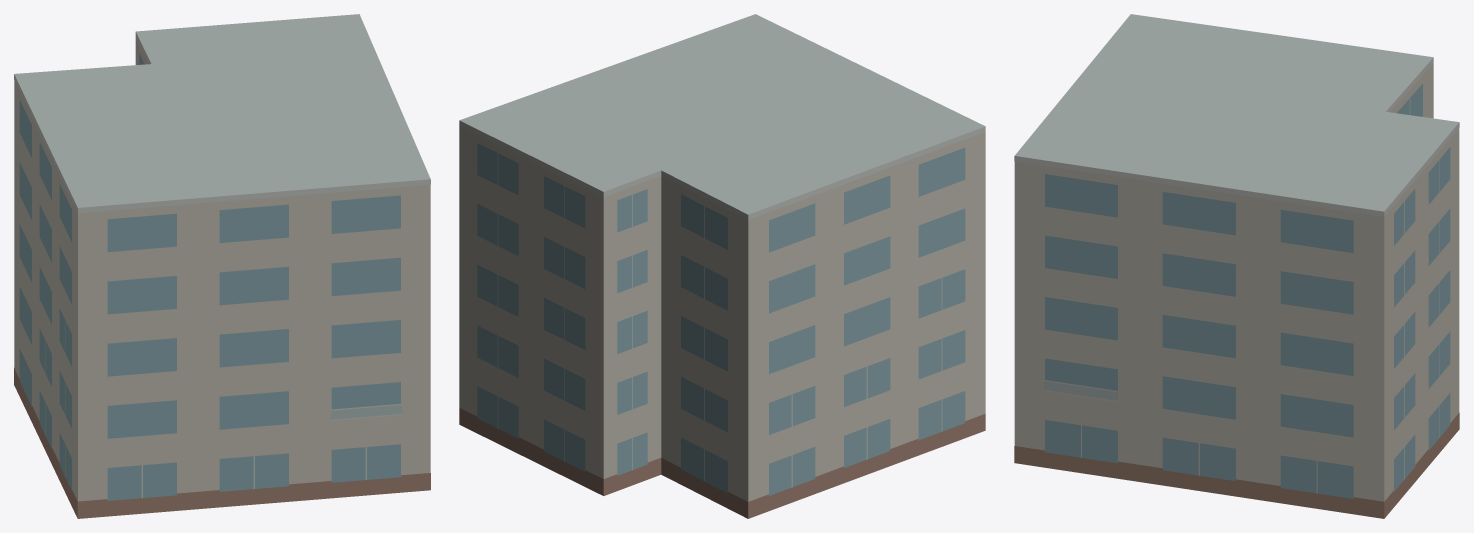
Rendered from survey-upis-32842150.glb.
3 renders of one model, left to right at view 1: azimuth 30°, elevation 25°; view 2: azimuth 150°, elevation 25°; view 3: azimuth 270°, elevation 25°, orthographic. The views are drawn at different scales.
Visible parts, largest first — view 1: survey-upis-32842150.tmp; view 2: survey-upis-32842150.tmp; view 3: survey-upis-32842150.tmp.
Boxes of the visible parts, <box> form: survey-upis-32842150.tmp: <box>14,14,430,518</box>; survey-upis-32842150.tmp: <box>459,14,985,518</box>; survey-upis-32842150.tmp: <box>1014,14,1459,518</box>.
Bounding box in the file's own units: 19.05 × 13.8 × 18.12.
